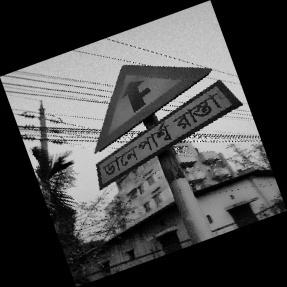Side-road-right: (92, 63, 241, 194)
